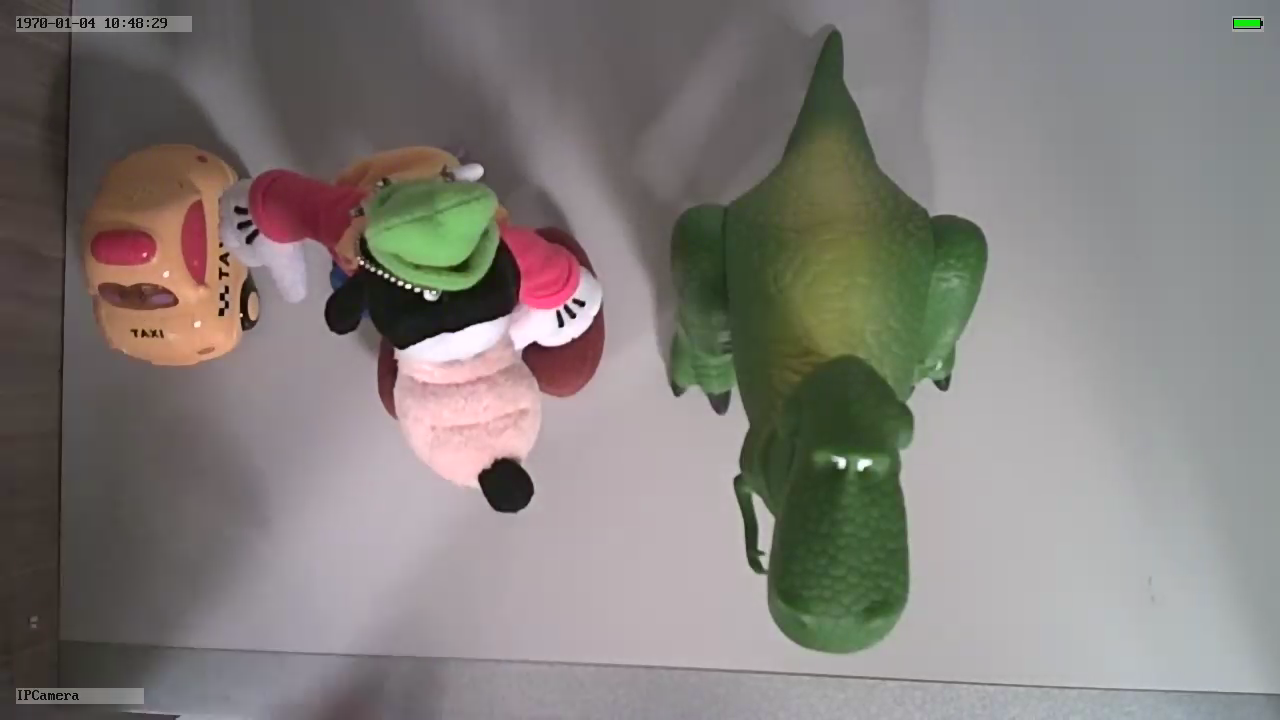goofy: (223, 142, 611, 513)
